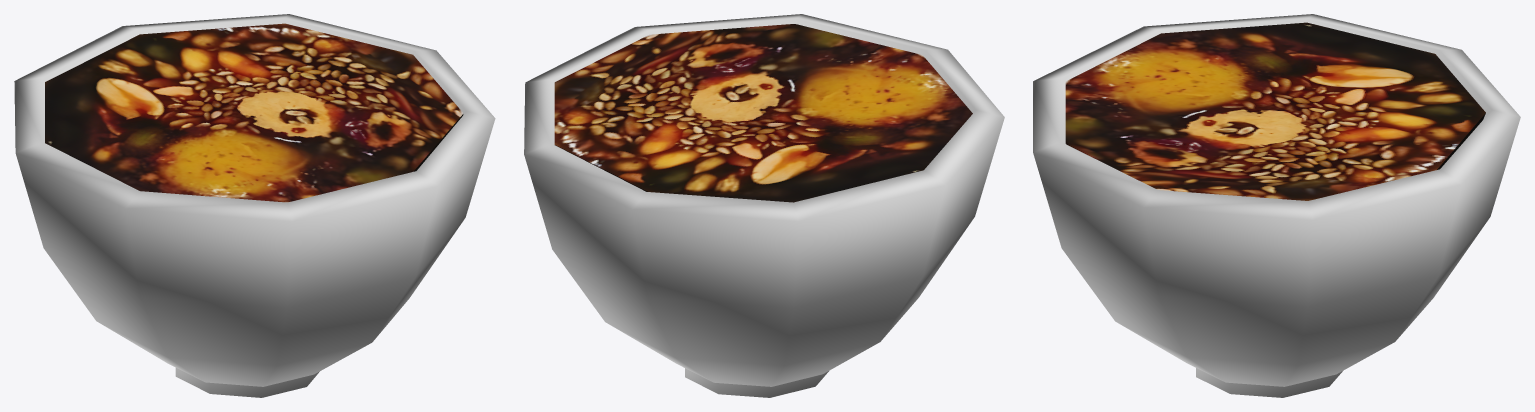
Rendered from SsanghwaTea_.fbx.
3 renders of one model, left to right at view 1: azimuth 30°, elevation 25°; view 2: azimuth 150°, elevation 25°; view 3: azimuth 270°, elevation 25°, orthographic.
Parts seen in each view (by area): view 1: Cup, SsanghwaTea; view 2: Cup, SsanghwaTea; view 3: Cup, SsanghwaTea.
Boxes of the visible parts, bbox=[...] form: Cup: bbox=[14, 14, 495, 397]; SsanghwaTea: bbox=[45, 23, 463, 202]; Cup: bbox=[524, 14, 1004, 397]; SsanghwaTea: bbox=[554, 24, 972, 202]; Cup: bbox=[1033, 14, 1520, 397]; SsanghwaTea: bbox=[1065, 22, 1485, 200].
Bounding box in the file's own units: 65.11 × 40.1 × 65.09.
Materials: 2 (1 with a texture image).
